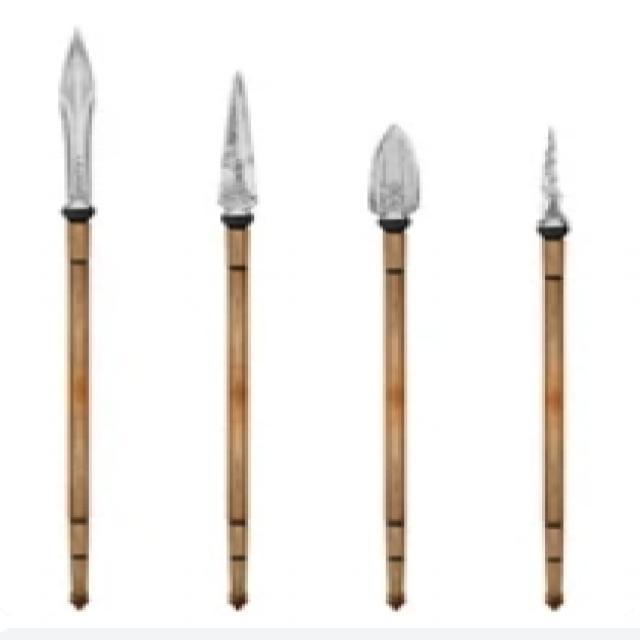spear: (32, 6, 110, 600), (508, 110, 598, 620), (204, 70, 286, 621), (355, 101, 428, 626)
